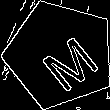M_NW: (25, 20, 95, 88)
